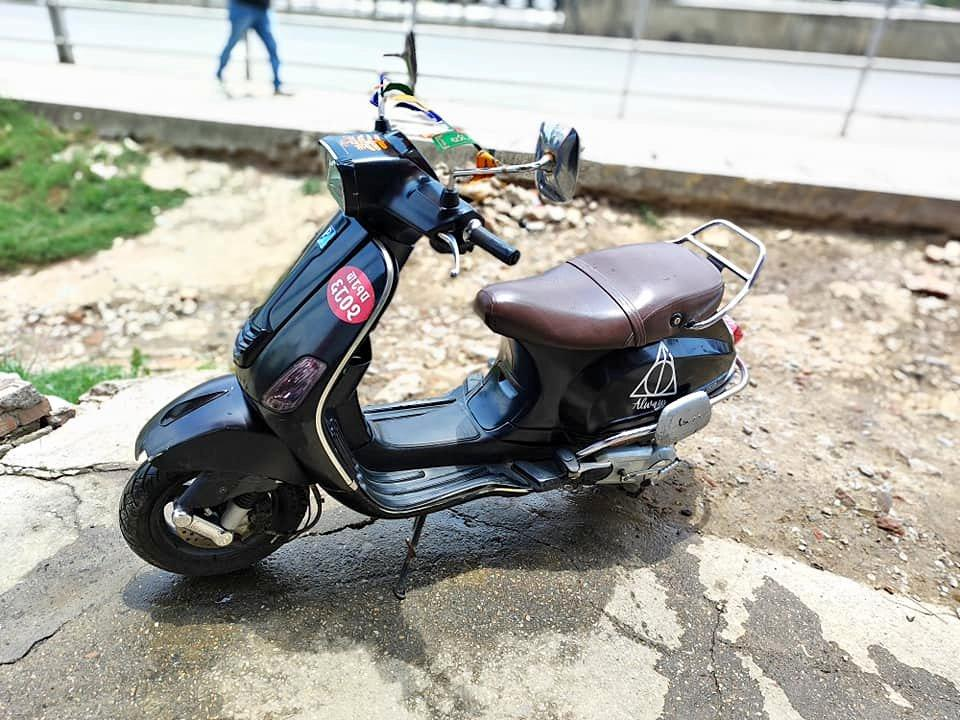scooter: (119, 77, 773, 592)
